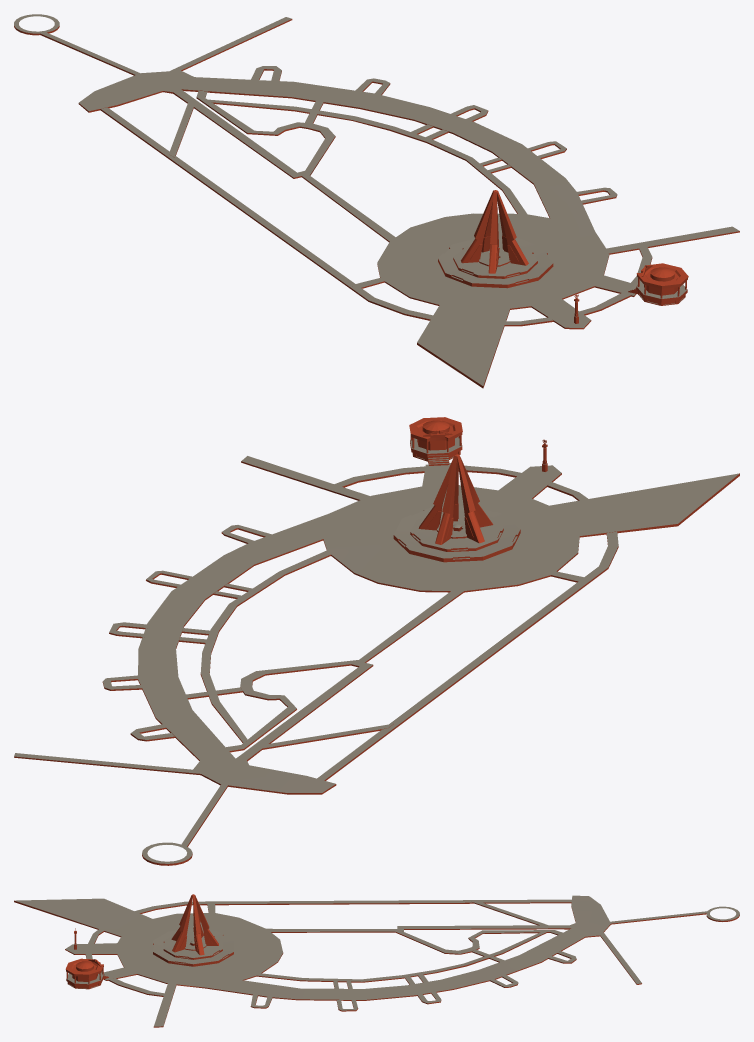
The picture shows the model from 3 angles, top to bottom: view 1: azimuth 30°, elevation 25°; view 2: azimuth 150°, elevation 25°; view 3: azimuth 270°, elevation 25°; orthographic projection. The views are drawn at different scales.
Parts seen in each view (by area): view 1: pCube4:PIV; view 2: pCube4:PIV; view 3: pCube4:PIV.
Part boxes in pixels (box(x1,y1,x2,y2)): pCube4:PIV: box(14, 14, 739, 388); pCube4:PIV: box(14, 417, 739, 865); pCube4:PIV: box(14, 894, 739, 1027).
Bounding box in the file's own units: 289 × 57.46 × 677.
